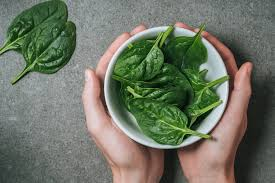spinach: (128, 55, 199, 133), (14, 11, 74, 67)
